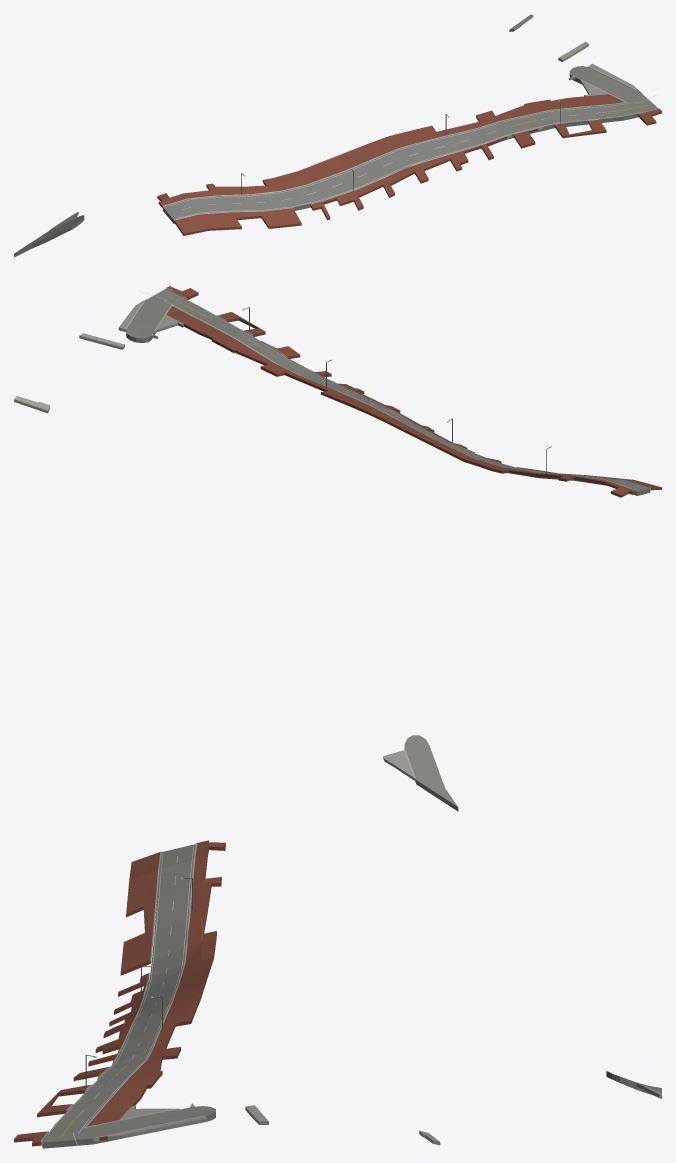
The picture shows the model from 3 angles, top to bottom: view 1: azimuth 30°, elevation 25°; view 2: azimuth 150°, elevation 25°; view 3: azimuth 270°, elevation 25°; orthographic projection. The views are drawn at different scales.
Size of the model in its own units: 150 by 63.23 by 119.
